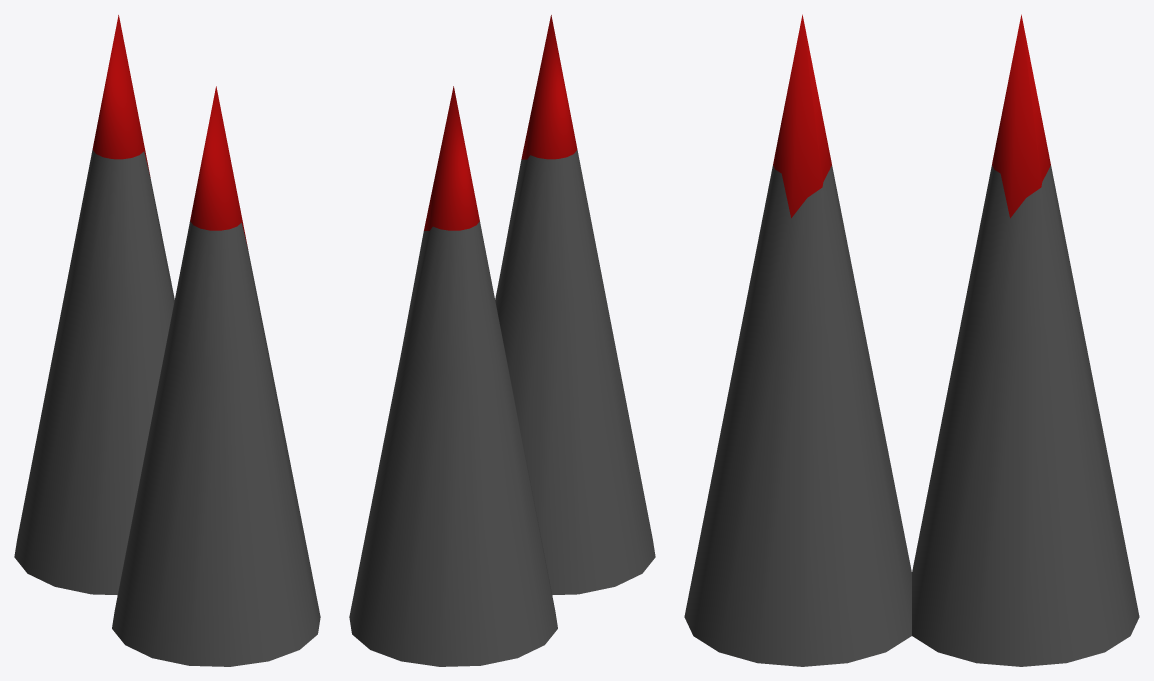
Rendered from Spikes2_01.fbx.
3 renders of one model, left to right at view 1: azimuth 30°, elevation 25°; view 2: azimuth 150°, elevation 25°; view 3: azimuth 270°, elevation 25°, orthographic. The views are drawn at different scales.
Visible parts, largest first — view 1: pCone17; view 2: pCone17; view 3: pCone17.
Boxes of the visible parts, <box> form: pCone17: <box>14,15,320,666</box>; pCone17: <box>349,15,655,666</box>; pCone17: <box>684,14,1139,666</box>.
Bounding box in the file's own units: 11.15 × 31.39 × 21.48.
